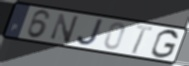0: (103, 21, 126, 51)
6: (26, 9, 51, 40)
G: (149, 28, 180, 60)
J: (76, 18, 106, 48)
N: (49, 13, 81, 45)
T: (130, 23, 154, 55)
